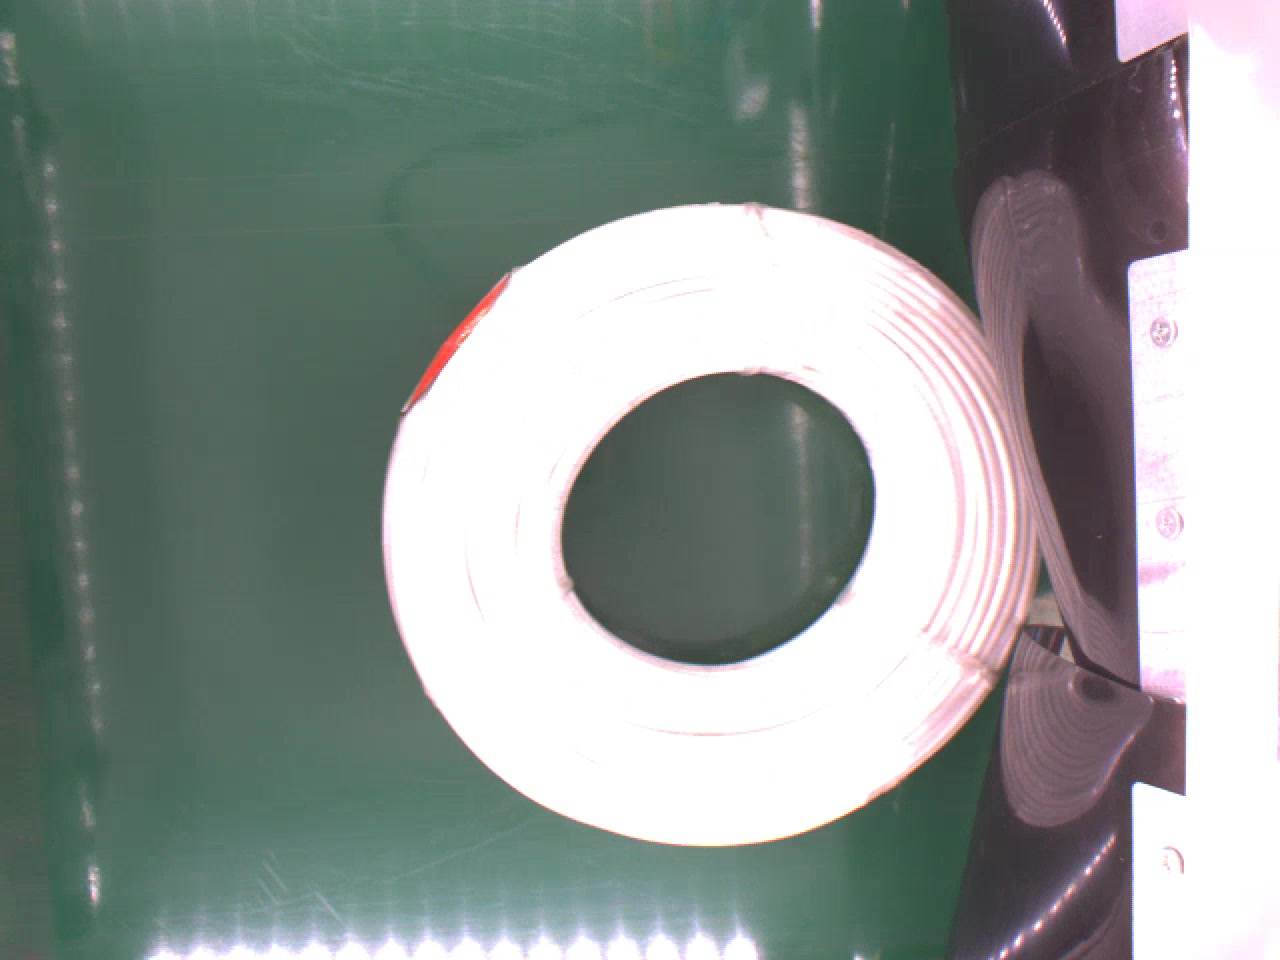white: (385, 192, 1039, 852)
